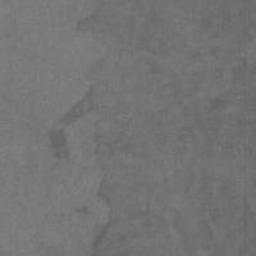Water spot: (54, 0, 256, 256), (47, 128, 70, 161), (72, 205, 90, 214)
